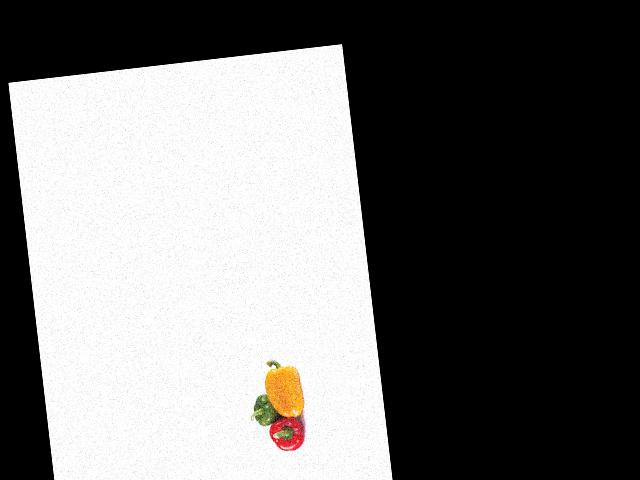bell_pepper: (247, 389, 284, 430)
